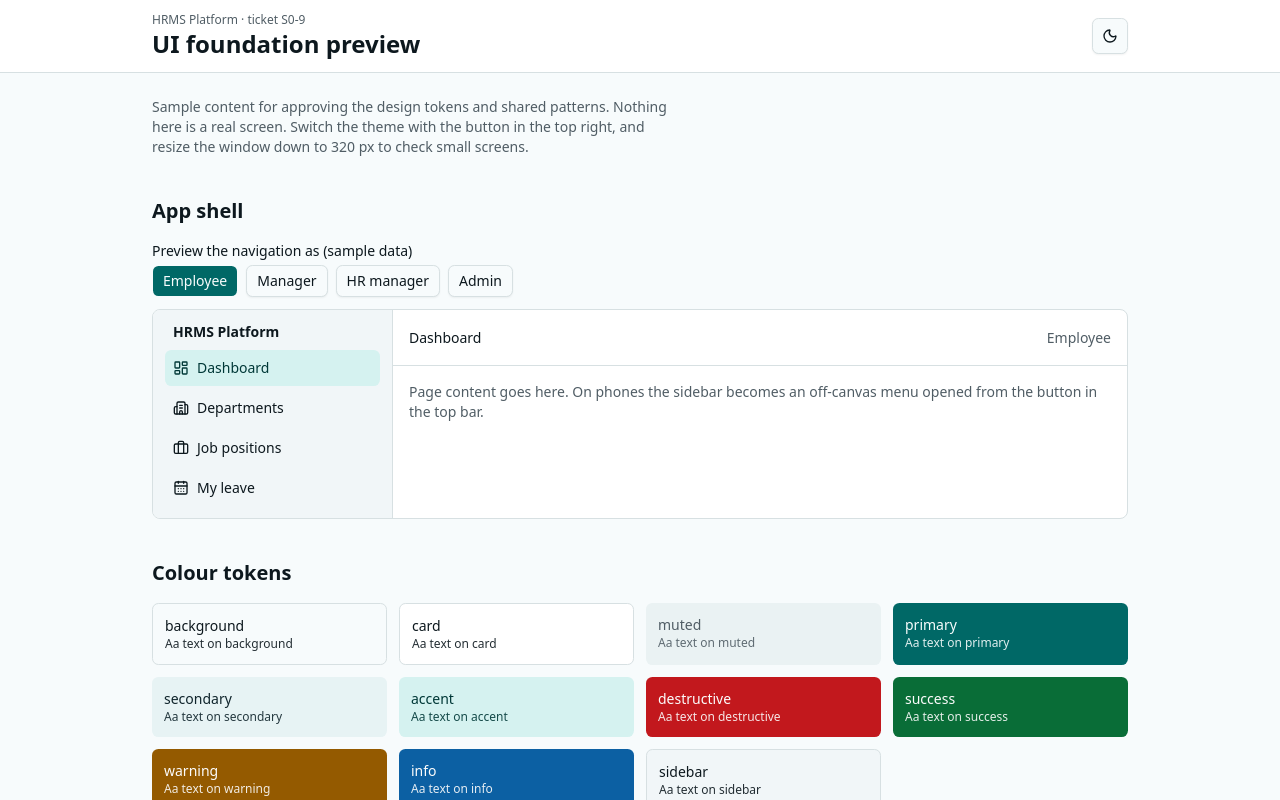
it: FoundationPreview › changes the navigation with the sample role
The width and height of the screenshot is (1280, 800).
Click the button "Admin".
click(480, 281)  # box [448,265,513,297]
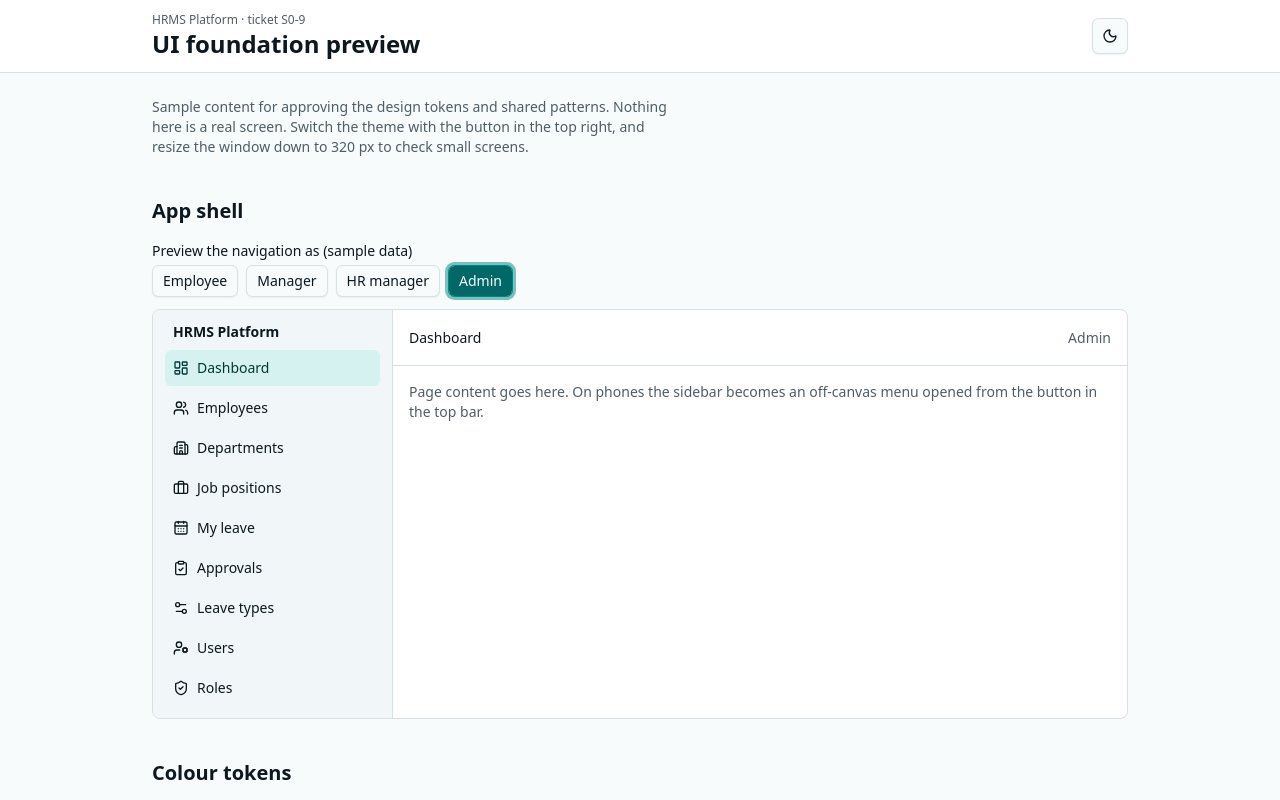
Check: the link "Users" is shown, box [173,638,234,657]
